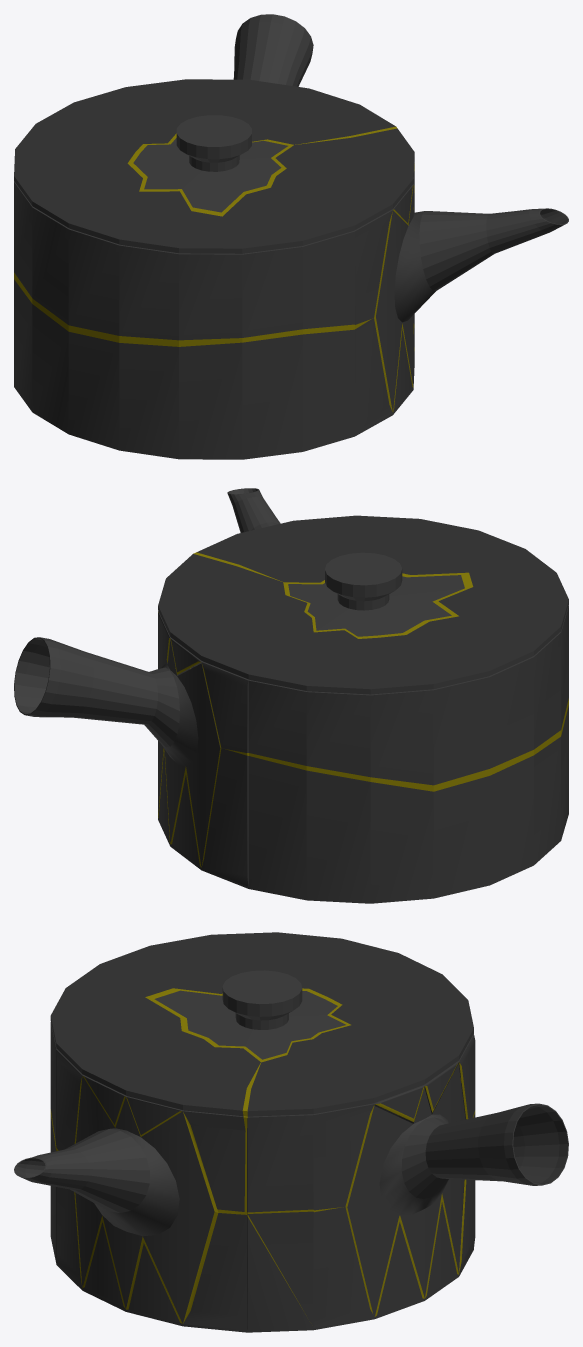
File: TT_Fixed_teapot.fbx
The picture shows the model from 3 angles, top to bottom: view 1: azimuth 30°, elevation 25°; view 2: azimuth 150°, elevation 25°; view 3: azimuth 270°, elevation 25°; orthographic projection. The views are drawn at different scales.
Visible parts, largest first — view 1: Fixed; view 2: Fixed; view 3: Fixed.
Boxes of the visible parts, x1,y1,x2,y2 form: Fixed: (14, 14, 568, 459); Fixed: (14, 488, 568, 903); Fixed: (14, 932, 568, 1332).
Bounding box in the file's own units: 30.14 × 16.85 × 33.12.
